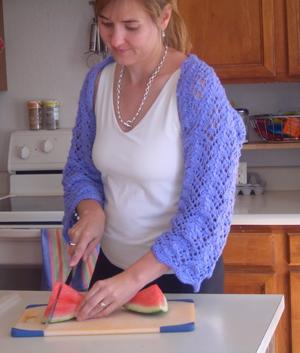person: (60, 2, 241, 322)
